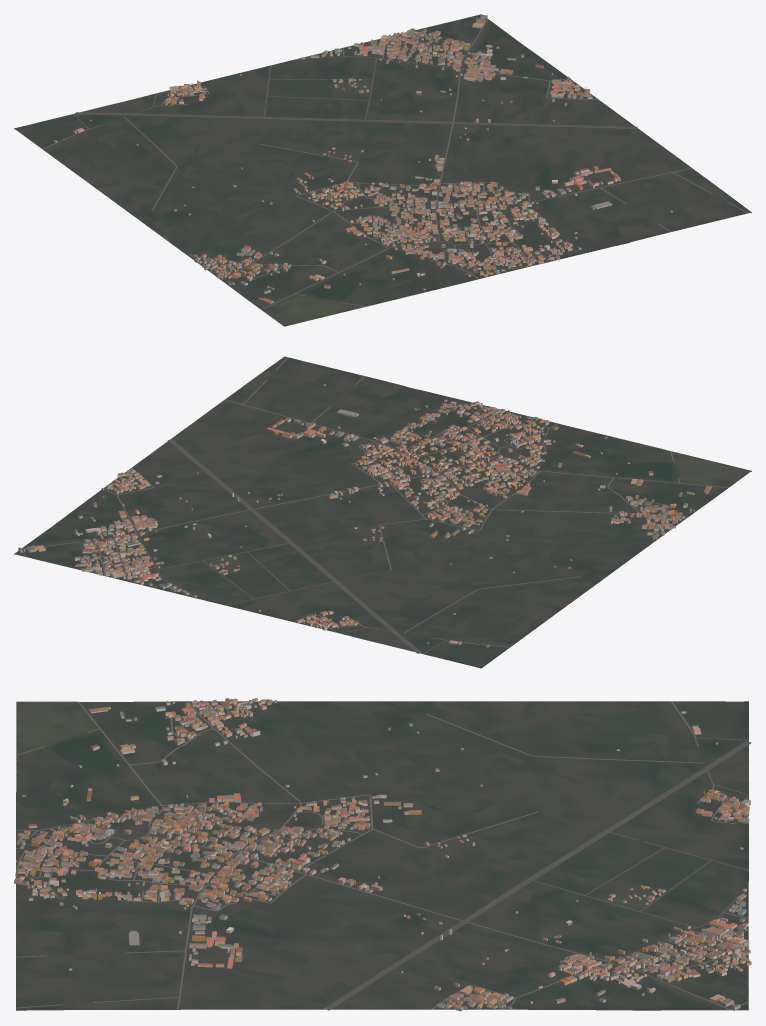
3 renders of one model, top to bottom at view 1: azimuth 30°, elevation 25°; view 2: azimuth 150°, elevation 25°; view 3: azimuth 270°, elevation 25°, orthographic. The views are drawn at different scales.
Parts seen in each view (by area): view 1: ground, buildings, roads; view 2: ground, buildings, roads; view 3: ground, buildings, roads.
Boxes of the visible parts, x1,y1,x2,y2 form: ground: [14, 14, 751, 326]; buildings: [53, 15, 672, 303]; roads: [42, 17, 748, 309]; ground: [14, 356, 751, 668]; buildings: [18, 384, 711, 647]; roads: [22, 357, 728, 653]; ground: [16, 701, 748, 1010]; buildings: [14, 698, 751, 1011]; roads: [15, 701, 751, 1010].
Size of the model in its own units: 1413 by 16.54 by 1412.
